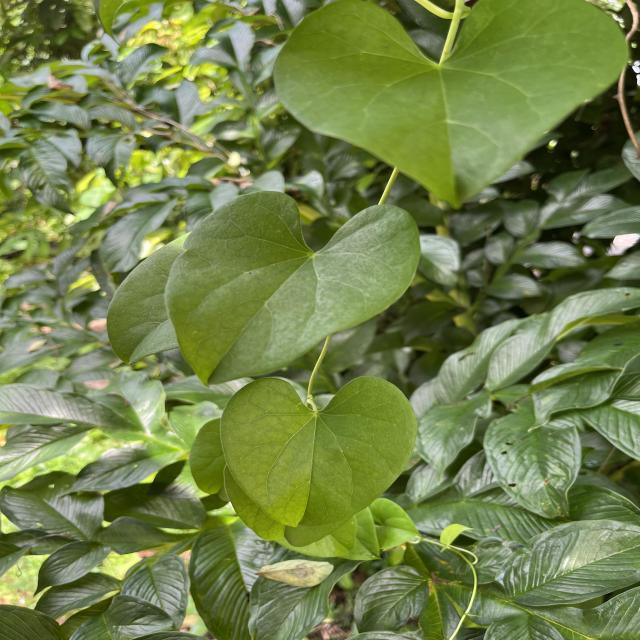Tinospora cordifolia: (268, 0, 636, 210), (162, 188, 425, 390), (217, 372, 420, 532)
